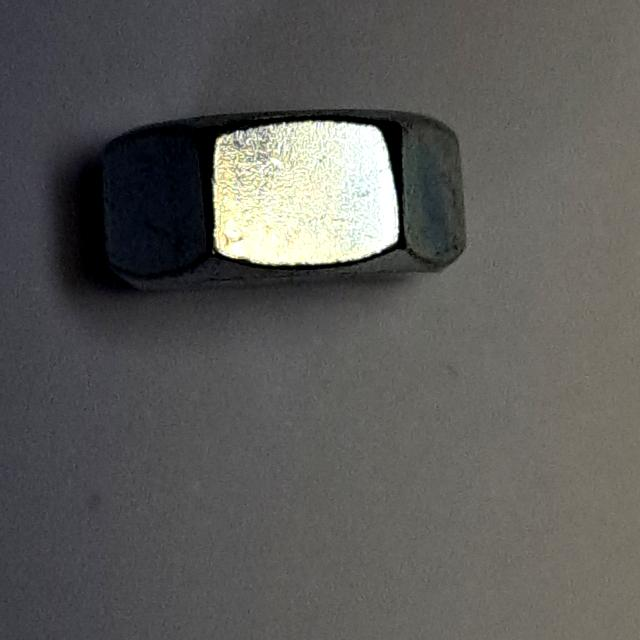Side_Excellent: (87, 89, 480, 313)
